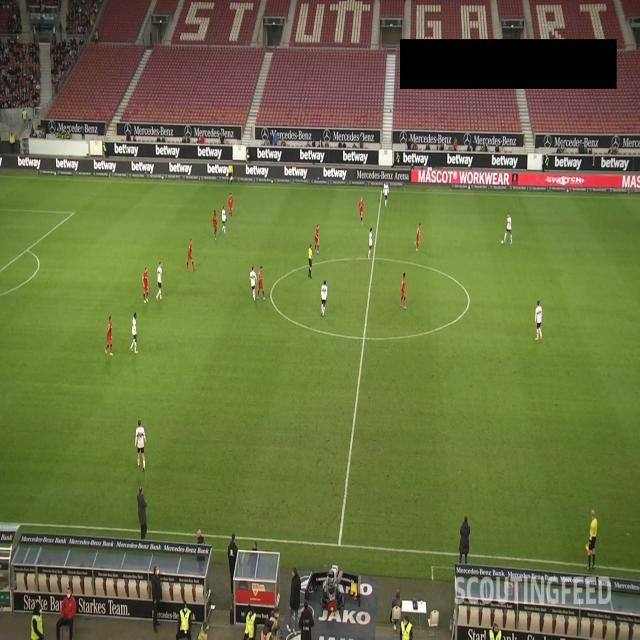ball: (501, 239, 504, 245)
